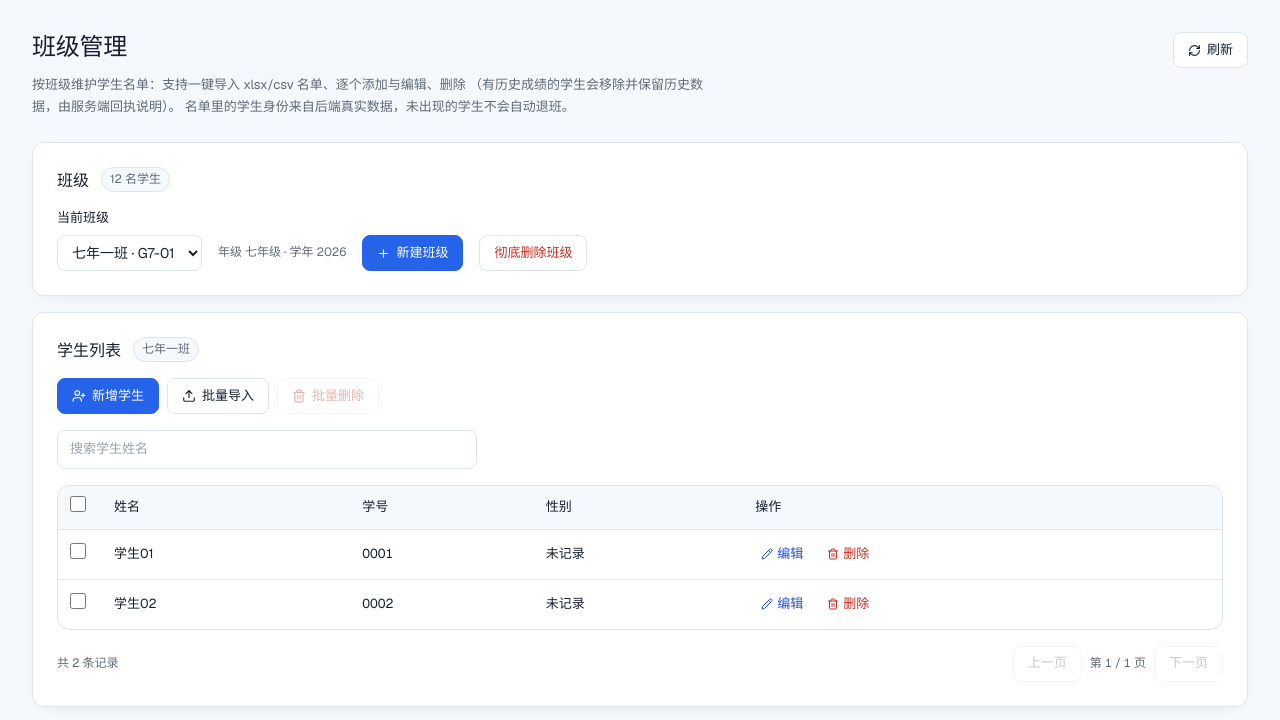
it: 班级管理页：删除学生（DELETE 回执两模式，R10-FE） › removed_with_history 回执：info 样式提示「有历史成绩，已移除并保留历史」
Check: the text "学生02" is shown, box [114,595,157,612]
Click the button with test id "assessments-student-delete-st-2" at (848, 604), box [821,590,875,619]
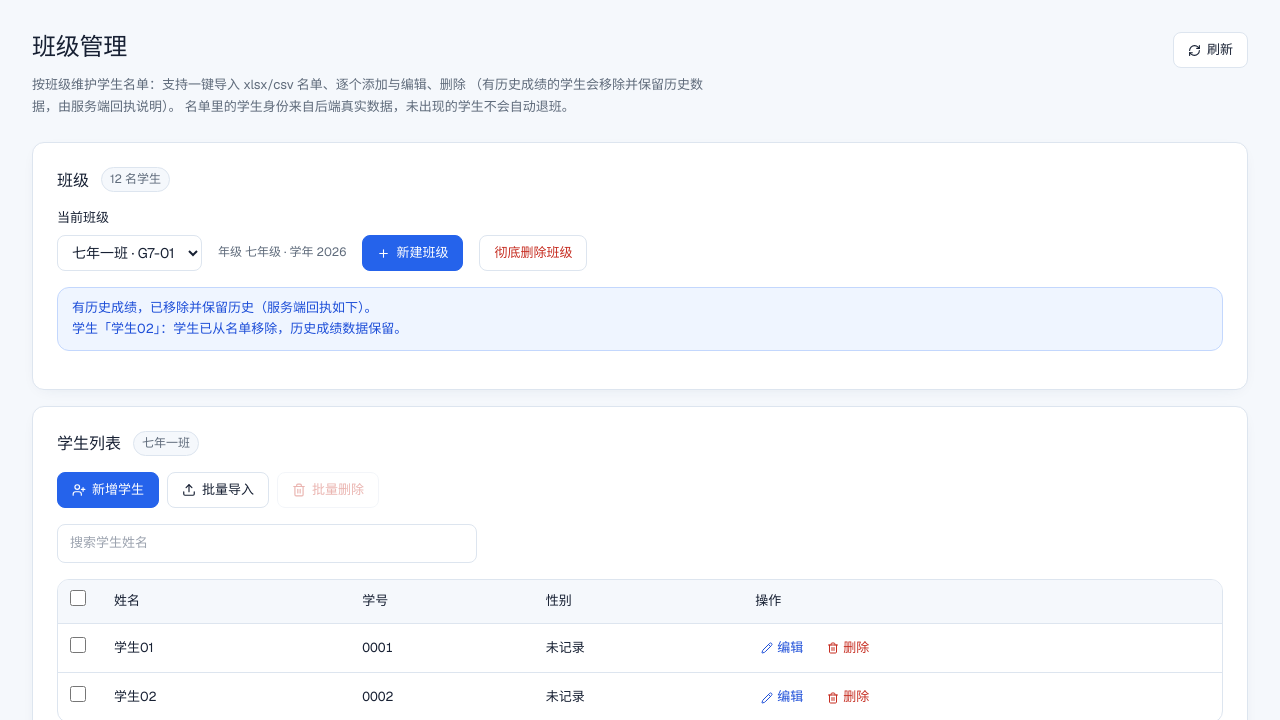
Check: the message with test id "assessments-student-delete-receipt" shows "有历史成绩，已移除并保留历史", box [72,299,378,316]
Check: the message with test id "assessments-student-delete-receipt" shows "学生已从名单移除，历史成绩数据保留。", box [173,320,407,337]
